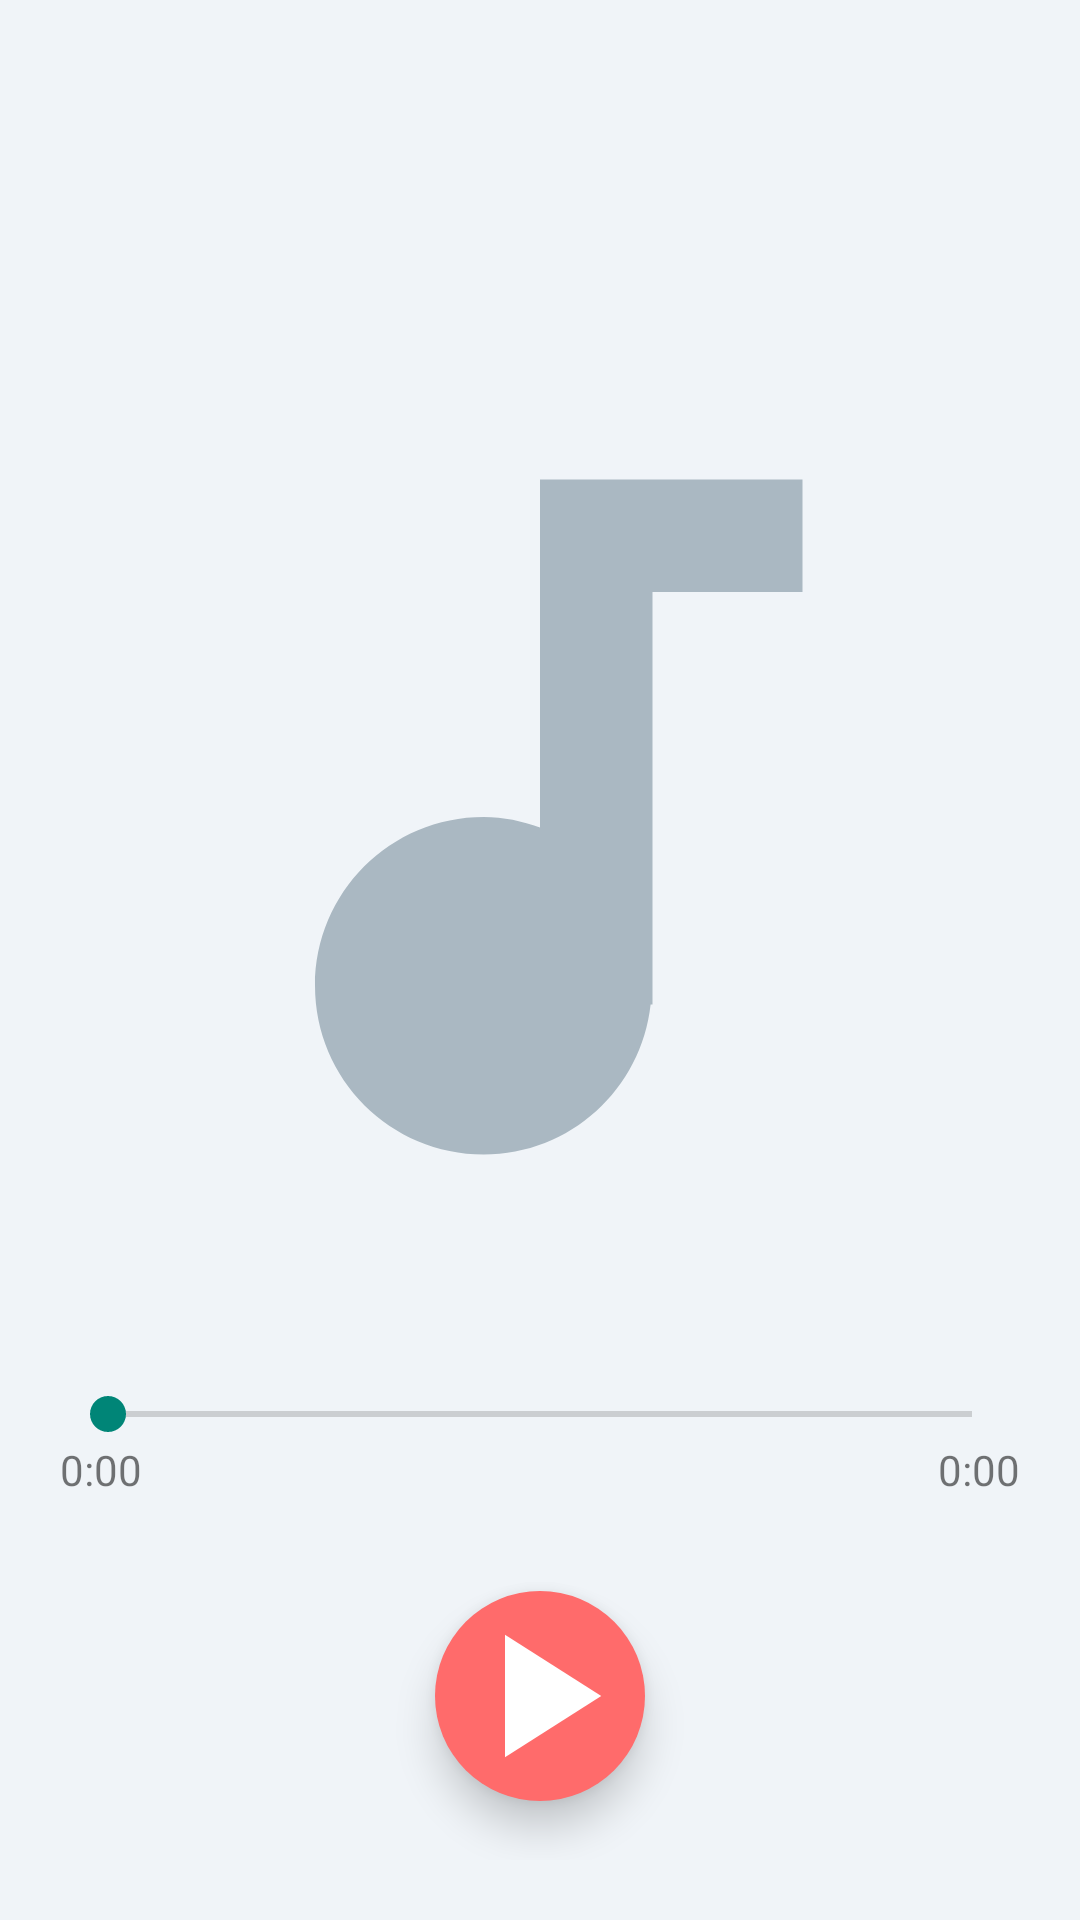

Where to tap for icons on this 1080px x 1920px app screen, as (x,y):
play arrow: (540,1696)
